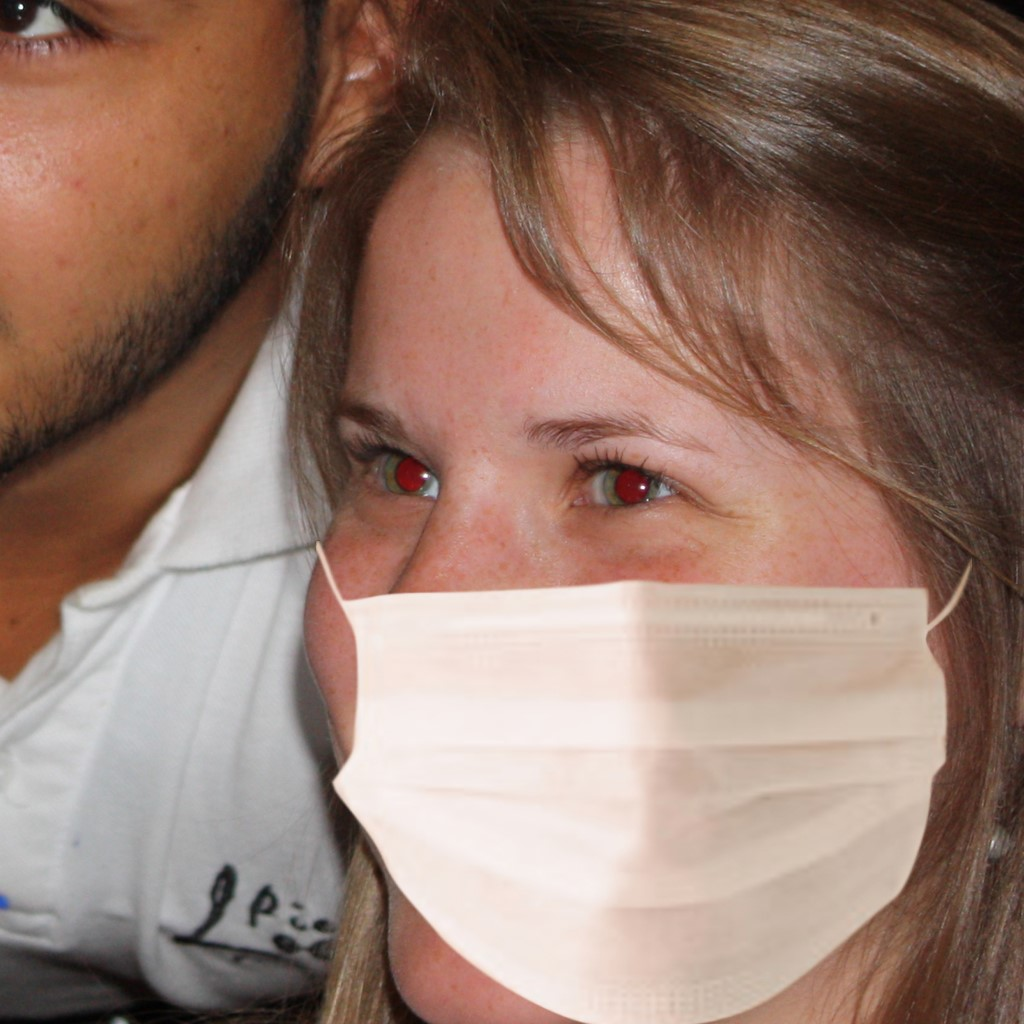con_mascara: (309, 130, 948, 1020)
